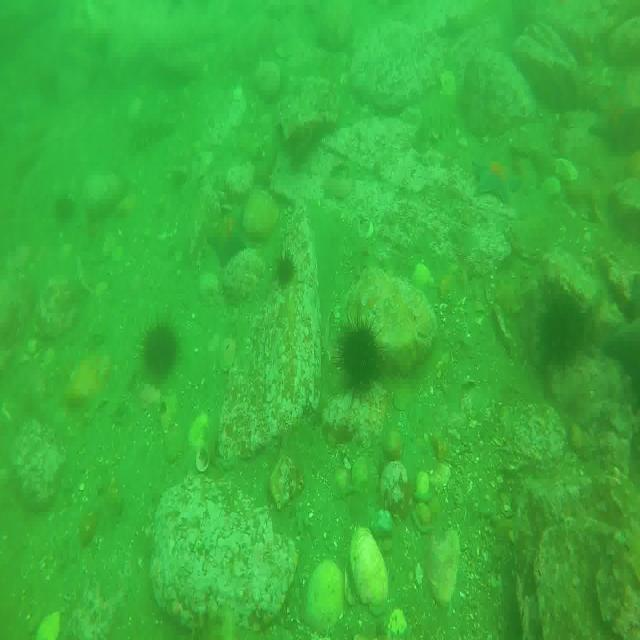echinus: (533, 285, 589, 370), (339, 323, 384, 399), (142, 318, 178, 386), (274, 249, 297, 294)
scallop: (348, 529, 392, 617), (309, 556, 343, 636)
starfish: (606, 271, 640, 418), (592, 98, 640, 160), (474, 151, 524, 206), (210, 203, 252, 261)
